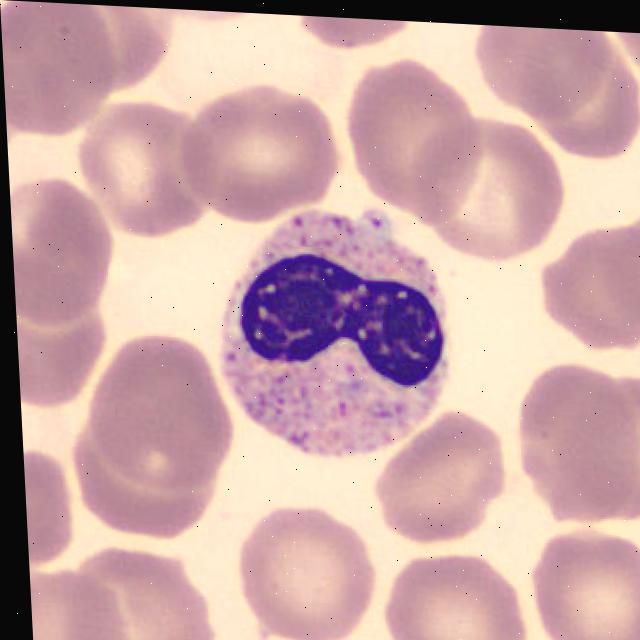neutrophil: (207, 195, 453, 466)
rbc: (508, 376, 640, 538), (418, 114, 559, 262), (181, 86, 335, 215), (351, 70, 477, 226), (100, 339, 228, 482), (85, 103, 215, 242), (66, 418, 212, 540), (373, 415, 505, 547), (0, 0, 119, 145), (250, 514, 376, 640), (10, 183, 117, 322), (555, 380, 640, 530), (524, 52, 640, 159), (484, 25, 612, 120), (529, 533, 640, 640), (15, 296, 117, 409), (392, 557, 529, 640), (546, 231, 640, 351), (105, 554, 223, 640), (29, 556, 142, 640), (76, 4, 174, 88), (24, 455, 77, 581), (302, 16, 419, 47), (138, 7, 254, 24)
